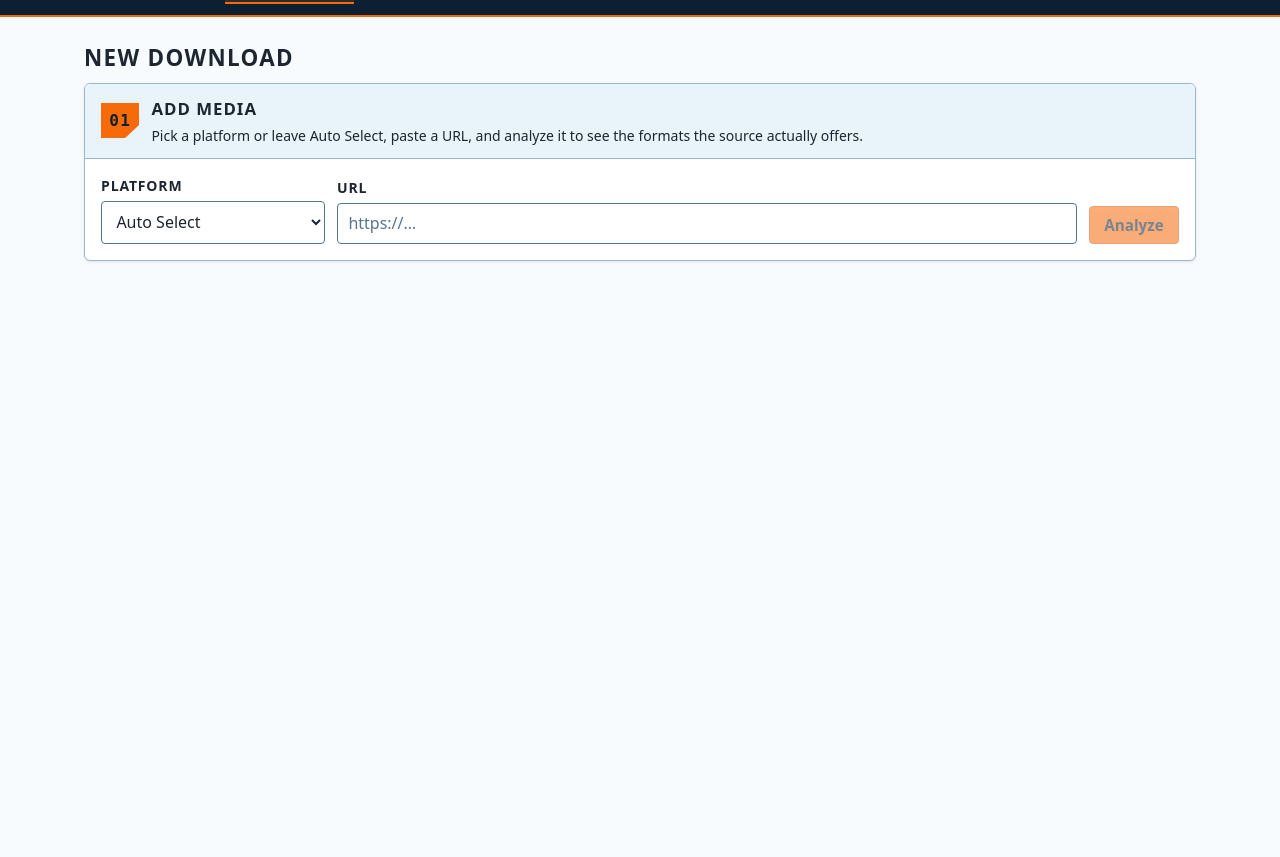
Test: collection progress and parent controls › keeps truthful terminal mixed counts and errors
The width and height of the screenshot is (1280, 857).
Step 1. Type "https://example.com/album" into the field labelled "URL" → (707, 223), box x1=337 y1=202 x2=1077 y2=244
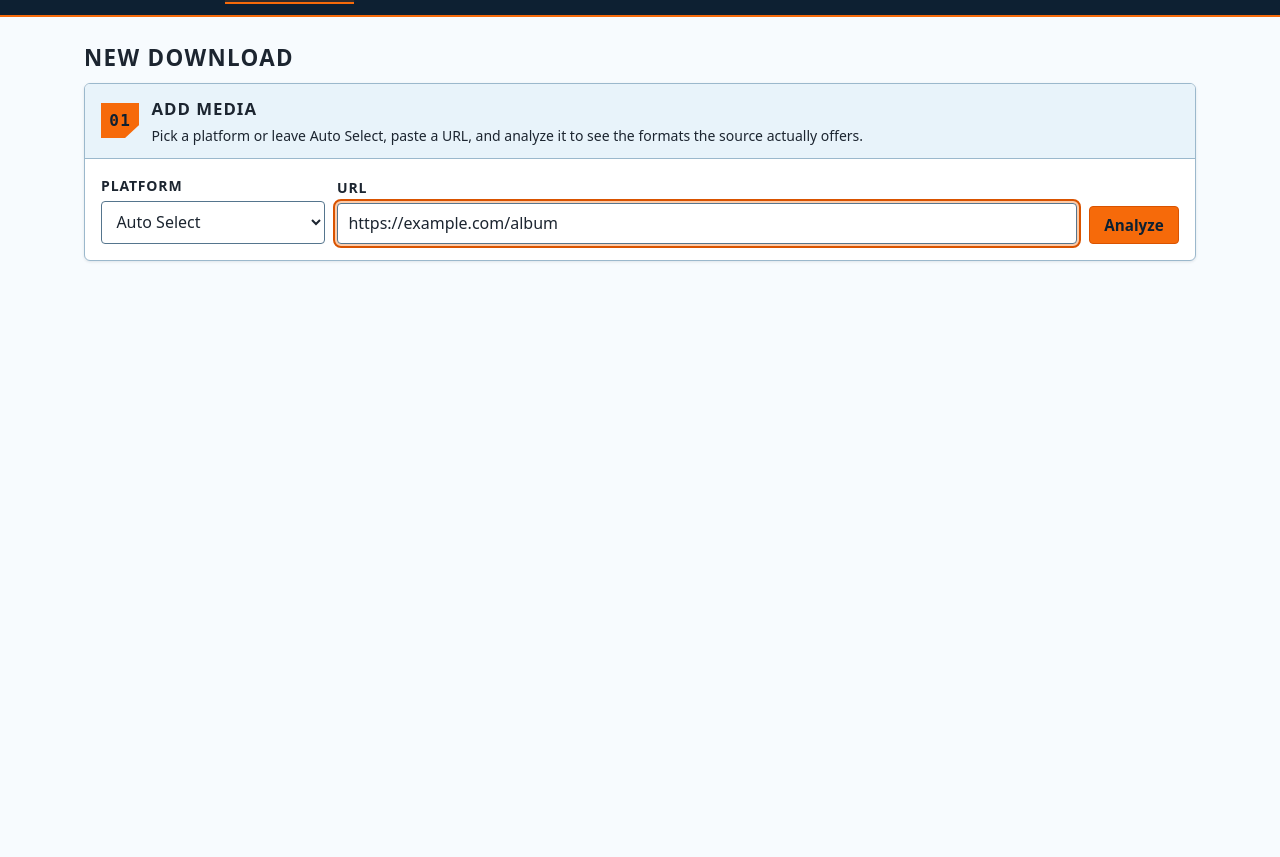
Step 2. Click the button "Analyze" → click(1134, 225), box x1=1089 y1=206 x2=1179 y2=244
(page scrolled)
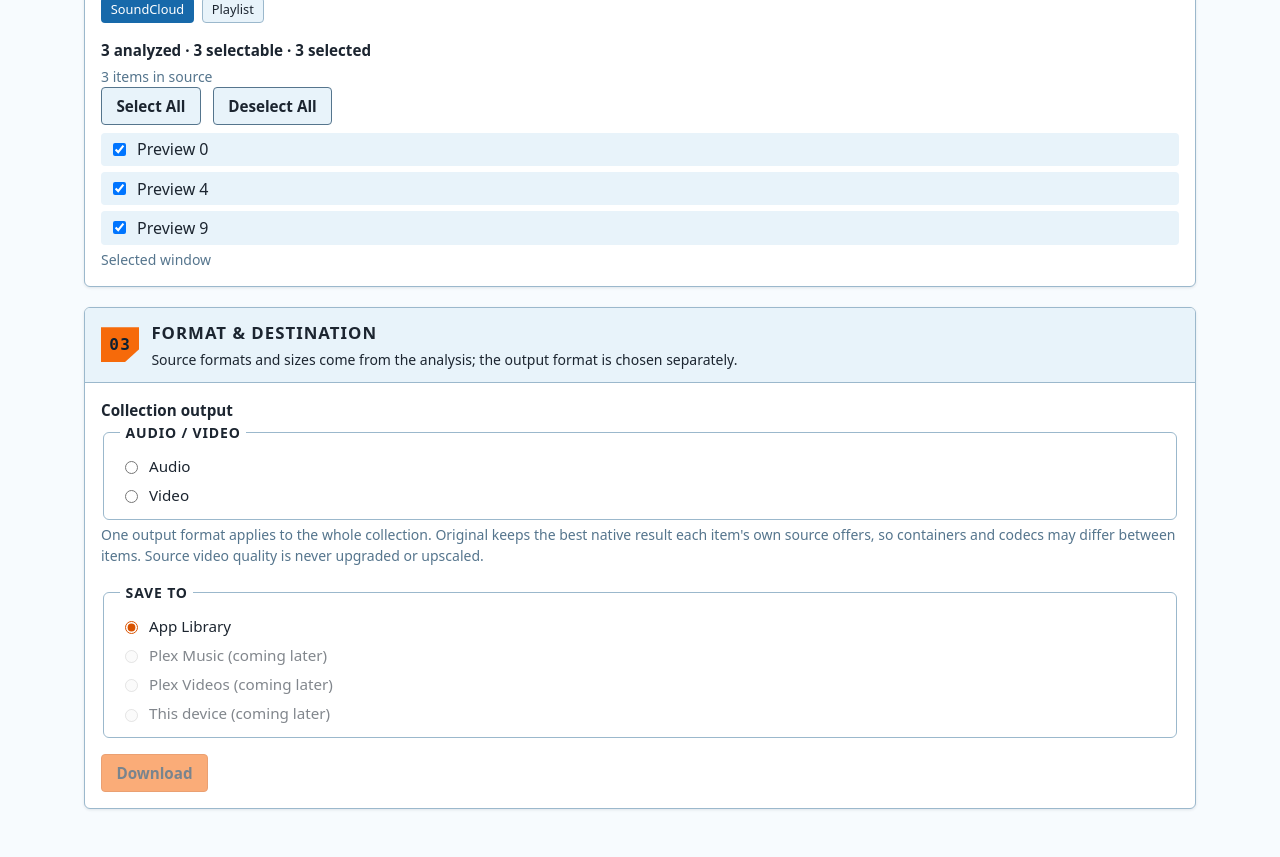
Expected: the text "Preview 0" is shown, x1=137 y1=138 x2=208 y2=162
Step 3. Click the radio button labelled "Audio" → click(132, 468), box x1=125 y1=461 x2=138 y2=474
(page scrolled)
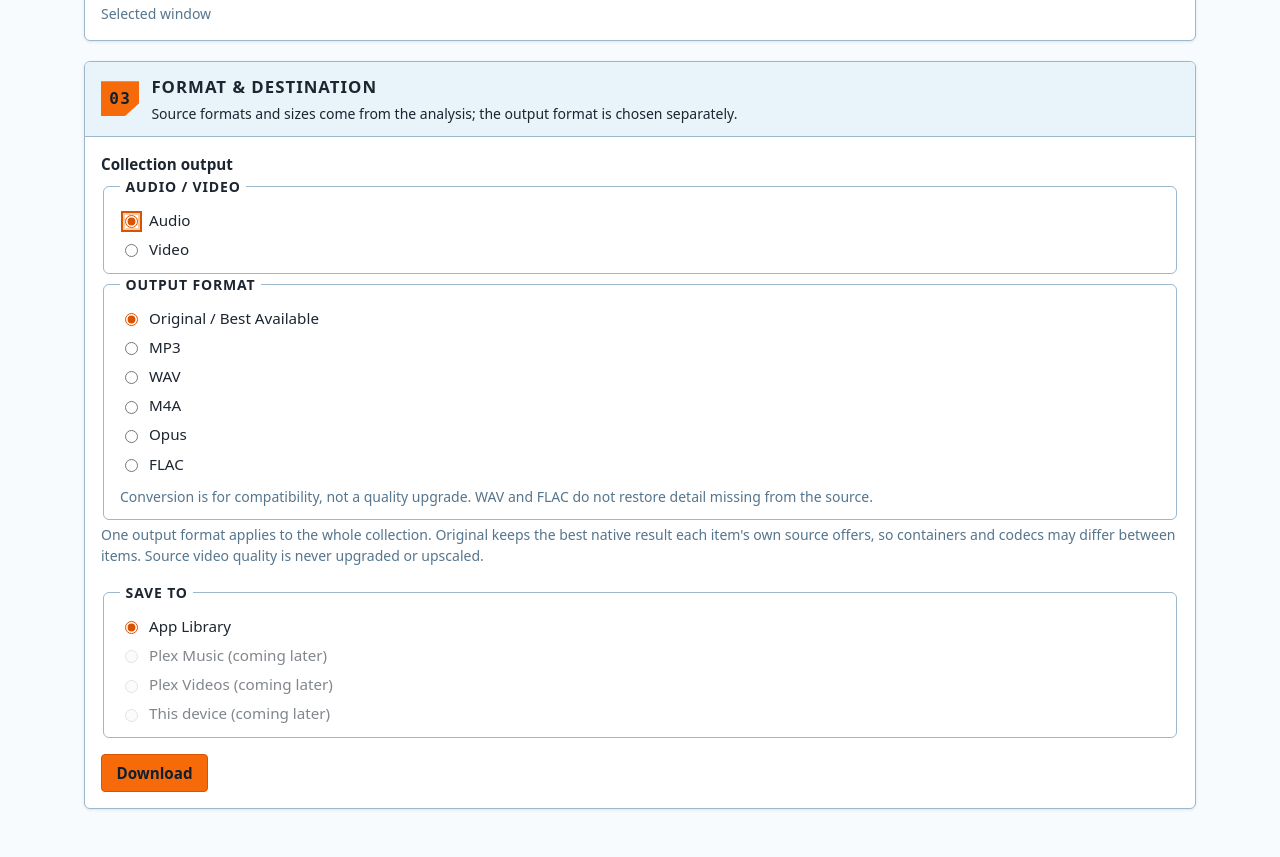
Step 4. Click the button "Download" → click(154, 773), box x1=101 y1=754 x2=208 y2=792
(page scrolled)
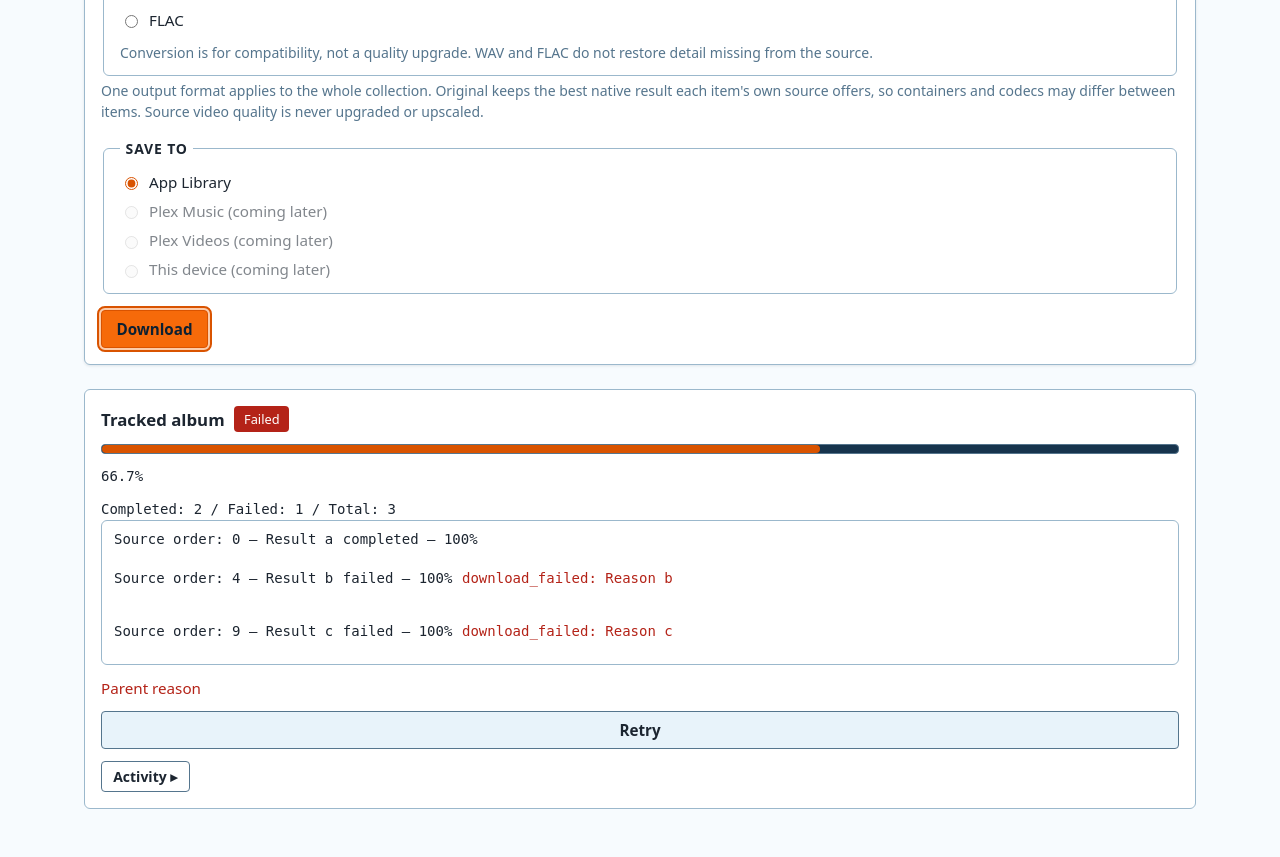
Expected: the heading "Tracked album" is shown, x1=101 y1=406 x2=225 y2=432
Expected: the text "Parent reason" is shown, x1=101 y1=678 x2=201 y2=698
Expected: the text "download_failed: Reason b" is shown, x1=462 y1=568 x2=673 y2=589
